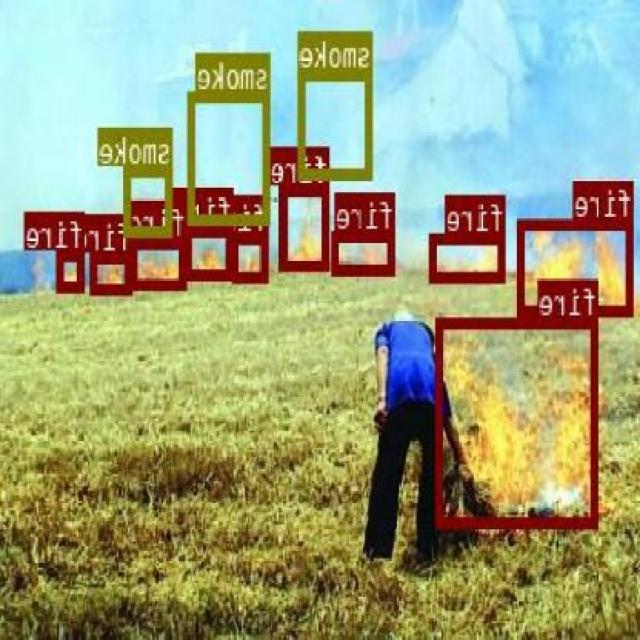Fire: (436, 316, 598, 527), (519, 216, 635, 312), (283, 184, 331, 268), (431, 232, 507, 280), (132, 237, 188, 288), (334, 228, 396, 274), (187, 226, 235, 280), (233, 232, 270, 280), (92, 250, 134, 292)
Smoke: (190, 90, 272, 222), (300, 68, 374, 178)
